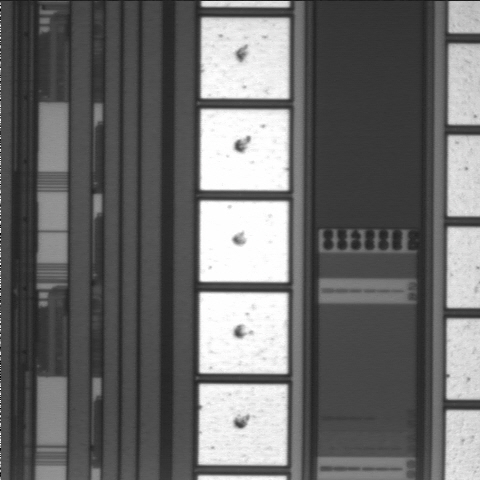pad: (200, 109, 289, 191), (199, 292, 288, 374), (200, 201, 289, 282), (198, 384, 287, 465), (201, 18, 289, 99)
